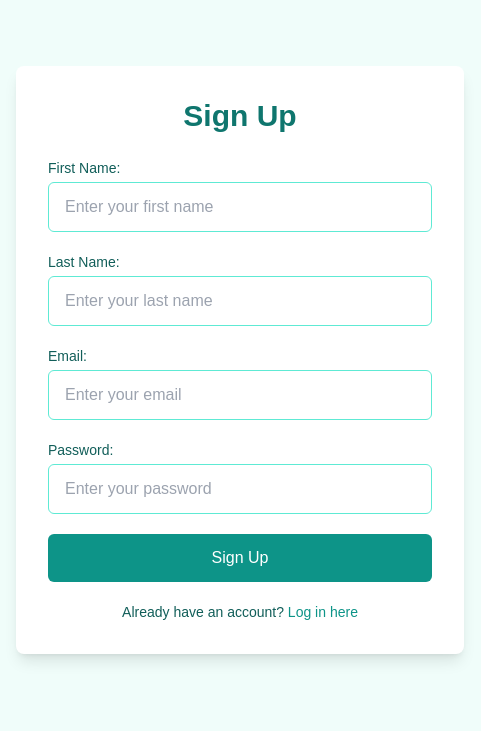
Test: SignUp Component › validates correct email format
The width and height of the screenshot is (481, 731).
Type "invalidemail" into the field labelled "Email:" at (240, 395), box [48,370,432,420]
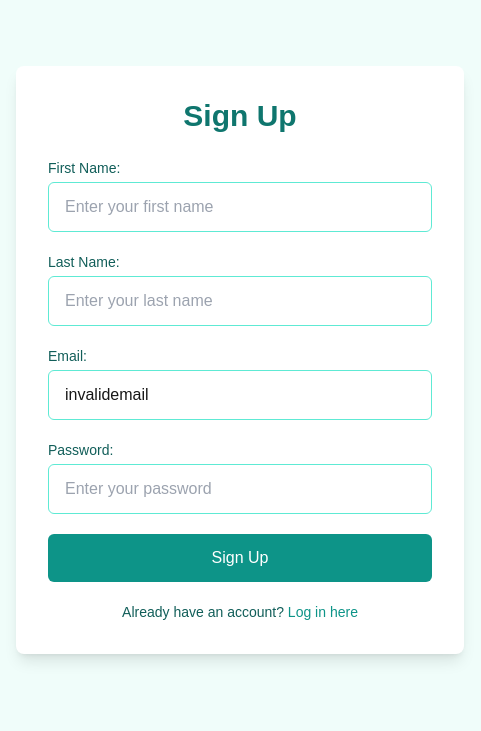
Click the button "Sign Up" at (240, 558), box [48,534,432,582]
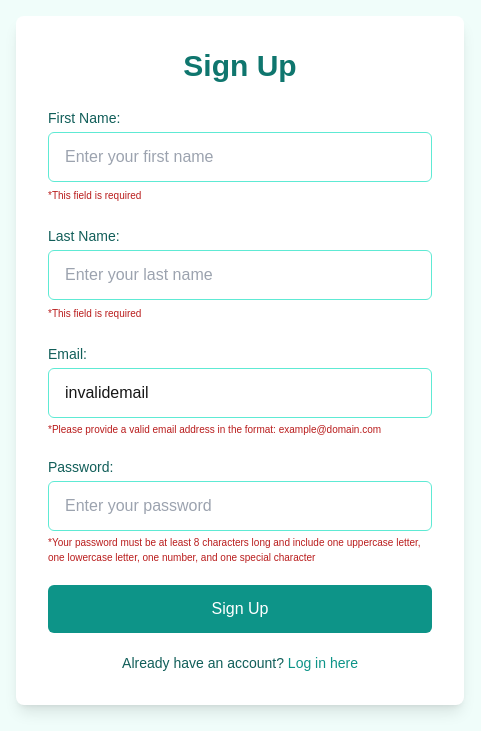
Expected: the text "*Please provide a valid email address in the format: example@domain.com" is shown, [48,422,432,436]
